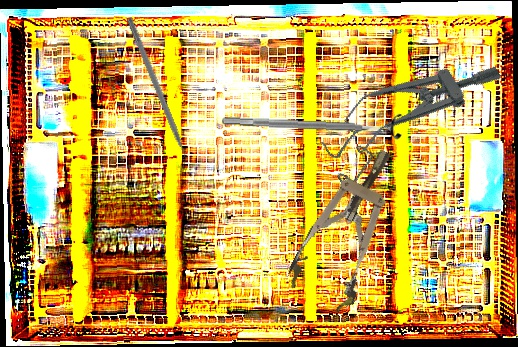Chopper: (118, 17, 193, 172)
Fixation Ring: (221, 106, 403, 142)
Speculum: (308, 29, 510, 190), (281, 136, 420, 317)
